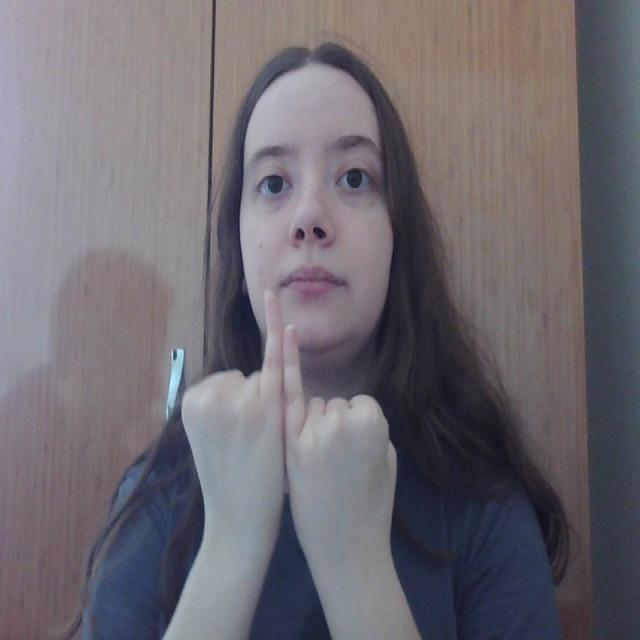Kardes: (175, 285, 402, 566)
